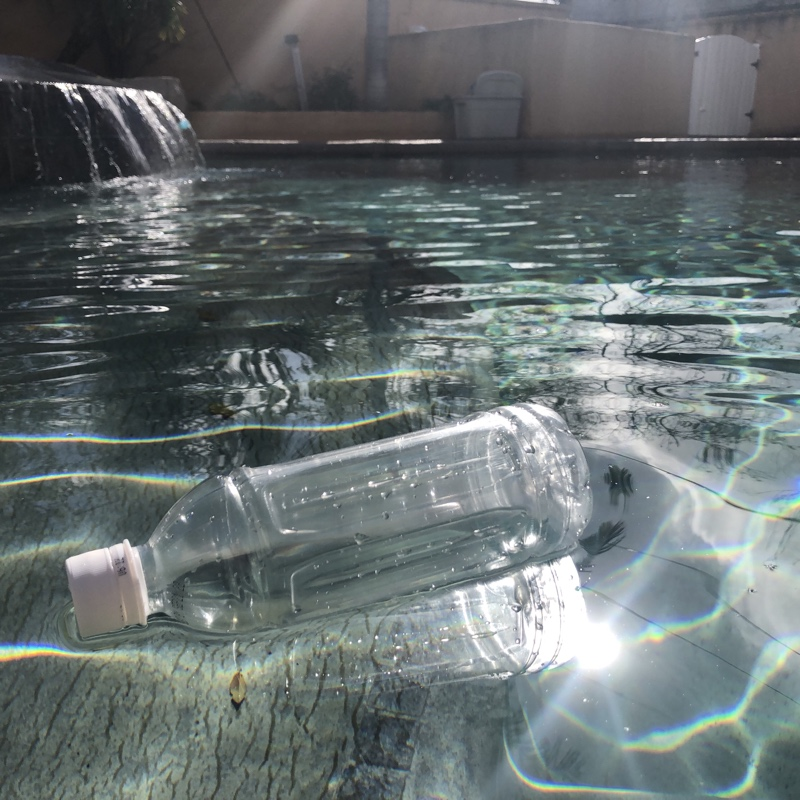Plastic Bottle: (61, 396, 596, 671)
